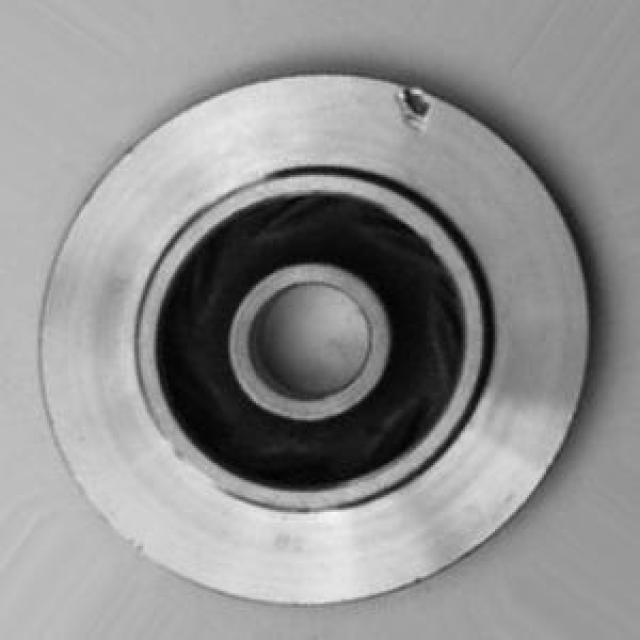Defect: (382, 66, 445, 139)
